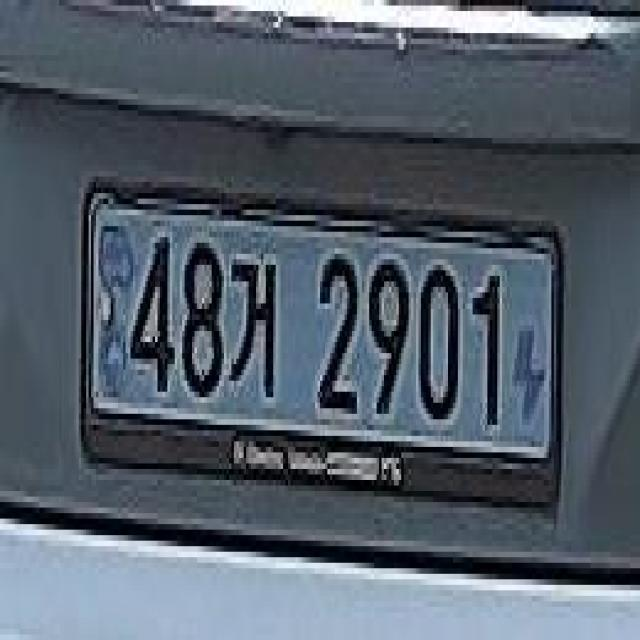EV_plate: (83, 161, 562, 521)
